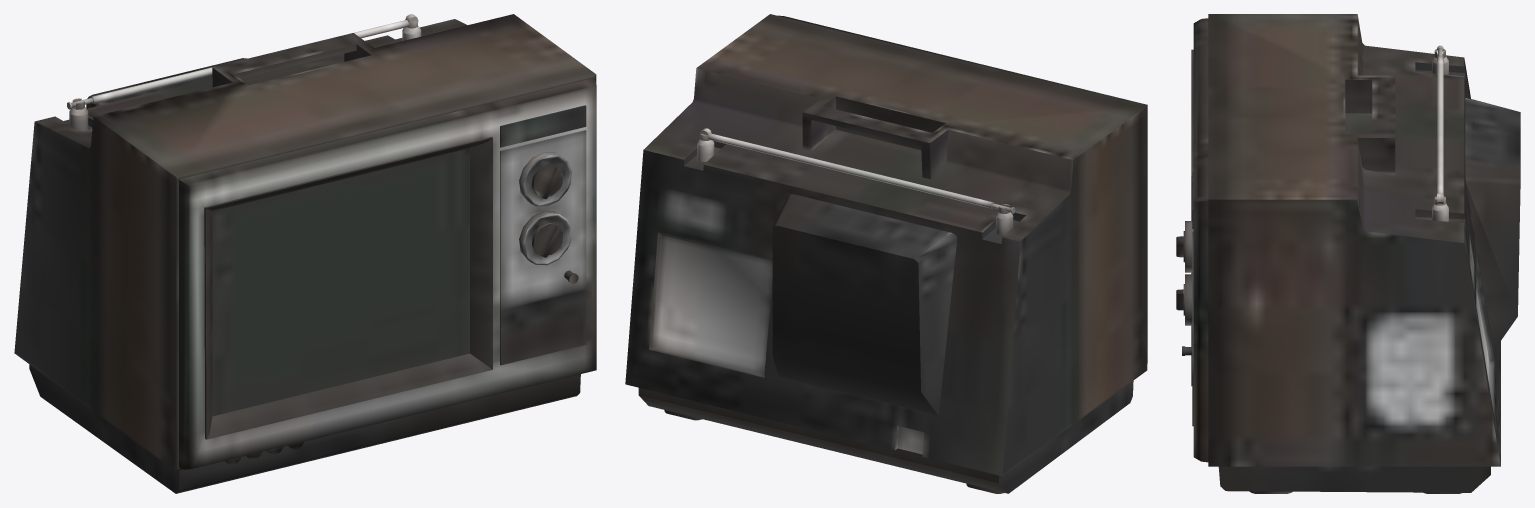
3 views of the same model, side by side, from view 1: azimuth 30°, elevation 25°; view 2: azimuth 150°, elevation 25°; view 3: azimuth 270°, elevation 25° (orthographic). The views are drawn at different scales.
Parts seen in each view (by area): view 1: Television_01; view 2: Television_01; view 3: Television_01.
Boxes of the visible parts, x1,y1,x2,y2 form: Television_01: (14, 14, 596, 493); Television_01: (625, 14, 1147, 493); Television_01: (1176, 14, 1520, 493).
Size of the model in its own units: 0.6 by 0.4568 by 0.47.
1 material, 1 textured.
